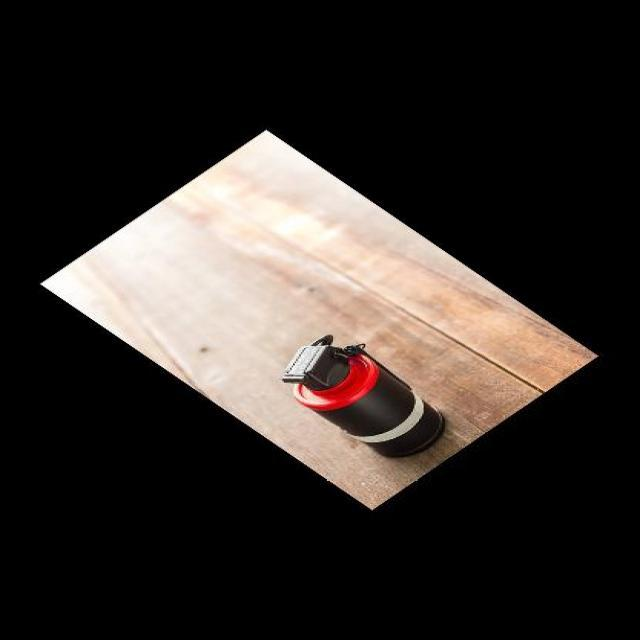grenade: (267, 331, 453, 465)
